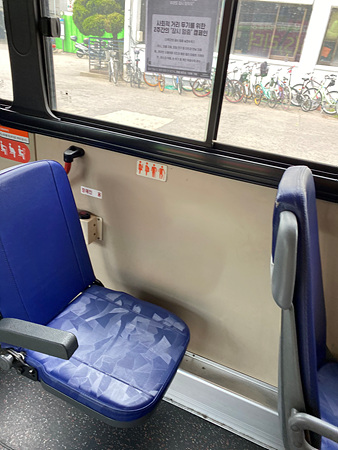seat: (2, 158, 193, 419)
